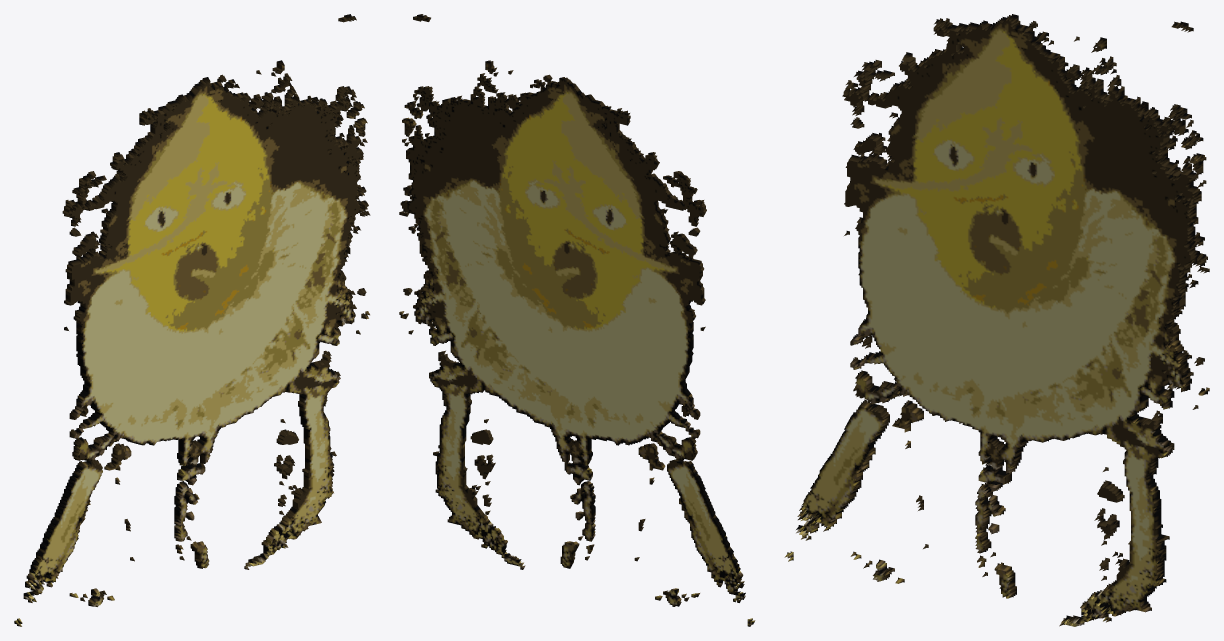
Rendered from 3dpea (4).glb.
The picture shows the model from 3 angles, left to right: view 1: azimuth 30°, elevation 25°; view 2: azimuth 150°, elevation 25°; view 3: azimuth 330°, elevation 25°; orthographic projection. The views are drawn at different scales.
Size of the model in its own units: 263 by 377 by 5.
1 material, 1 textured.
